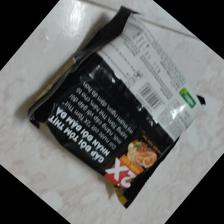3mien: (27, 6, 209, 210)
